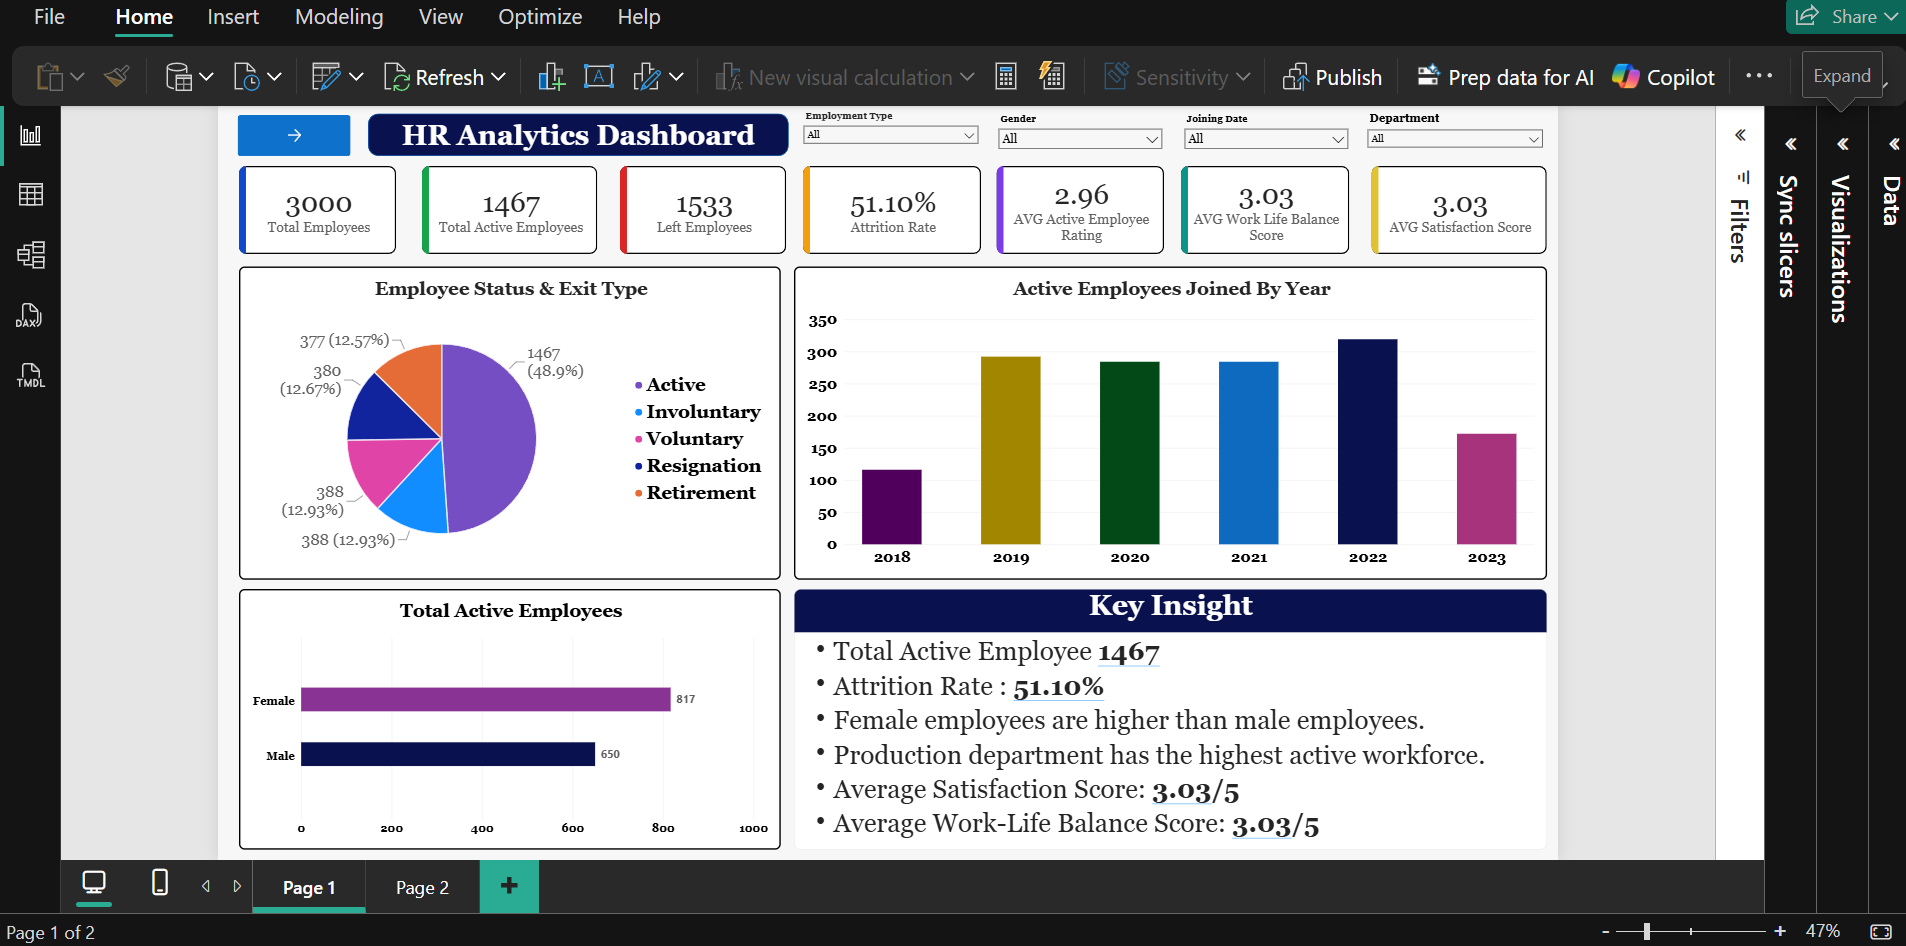

The page's visual inventory and layout, read from the dashboard file:
{"tool":"powerbi","page":{"name":"Page 1","canvas":[1920,1080],"ordinal":0},"visuals":[{"type":"cardVisual","fields":{"Data":["employee_data.Total Employees"]},"box":[30,86.4,225,126.7],"z":0},{"type":"cardVisual","fields":{"Data":["Table.Left Employees"]},"box":[576.2,85,238.3,126.7],"z":1000},{"type":"cardVisual","fields":{"Data":["Table.Attrition Rate"]},"box":[838.5,85.4,255,126.7],"z":2000},{"type":"cardVisual","fields":{"Data":["Table.Average Active Employee Rating"]},"box":[1114.2,85.4,240,126.7],"z":3000},{"type":"cardVisual","fields":{"Data":["Table.Average Work Life Balance Score"]},"box":[1380.1,85.4,241.7,126.7],"z":4000},{"type":"cardVisual","fields":{"Data":["Table.AVG Satisfaction Score"]},"box":[1651.8,85.4,251.3,126.9],"z":5000},{"type":"cardVisual","fields":{"Data":["Table.Total Active employees"]},"box":[292,85.4,251.7,126.7],"z":6000},{"type":"barChart","title":"Total Active Employees","fields":{"Category":["employee_data.Gender"],"Y":["Table.Total Active Employees"]},"box":[29.3,692.9,775.9,373.3],"z":7000},{"type":"columnChart","title":"Active Employees Joined By Year","fields":{"Category":["employee_data.StartDate.Variation.Date Hierarchy.Year"],"Y":["Table.Total Active employees"]},"box":[824.7,229.3,1078.4,448.9],"z":8000},{"type":"pieChart","title":"Employee Status & Exit Type","fields":{"Category":["employee_data.TerminationType"],"Y":["Table.Total Employees"]},"box":[29.3,229.3,775.9,448.9],"z":9000},{"type":"textbox","title":"Key Insight","box":[824.7,692.9,1078.4,373.3],"z":10000},{"type":"slicer","fields":{"Values":["employee_data.Gender"]},"box":[1113.8,10,244,62],"z":11000},{"type":"slicer","title":"Joining Date","fields":{"Values":["employee_data.StartDate"]},"box":[1378.8,10,244,60],"z":12000},{"type":"slicer","fields":{"Values":["employee_data.Employment Type"]},"box":[833.8,6.2,260,66.2],"z":13000},{"type":"slicer","fields":{"Values":["employee_data.Department"]},"box":[1641.2,8.8,261.1,61],"z":14000},{"type":"shape","box":[214.7,9.8,602.6,61],"z":15000},{"type":"actionButton","box":[28.9,13.3,162.2,58.9],"z":16000}]}

Visuals, with their boxes on the page's 1920x1080 design canvas (x1, y1, x2, y2). These are canvas units, not pixel positions in the 1906x946 screenshot, which may show the page scaled, cropped or inside an application window:
cardVisual - employee_data.Total Employees: 30:86:255:213
cardVisual - Table.Left Employees: 576:85:814:212
cardVisual - Table.Attrition Rate: 838:85:1094:212
cardVisual - Table.Average Active Employee Rating: 1114:85:1354:212
cardVisual - Table.Average Work Life Balance Score: 1380:85:1622:212
cardVisual - Table.AVG Satisfaction Score: 1652:85:1903:212
cardVisual - Table.Total Active employees: 292:85:544:212
"Total Active Employees" barChart: 29:693:805:1066
"Active Employees Joined By Year" columnChart: 825:229:1903:678
"Employee Status & Exit Type" pieChart: 29:229:805:678
"Key Insight" textbox: 825:693:1903:1066
slicer - employee_data.Gender: 1114:10:1358:72
"Joining Date" slicer: 1379:10:1623:70
slicer - employee_data.Employment Type: 834:6:1094:72
slicer - employee_data.Department: 1641:9:1902:70
shape: 215:10:817:71
actionButton: 29:13:191:72
